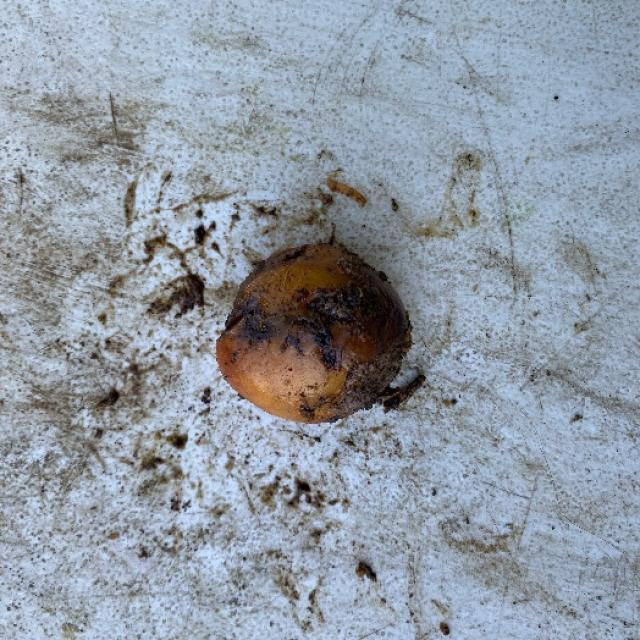organik: (216, 250, 412, 422)
